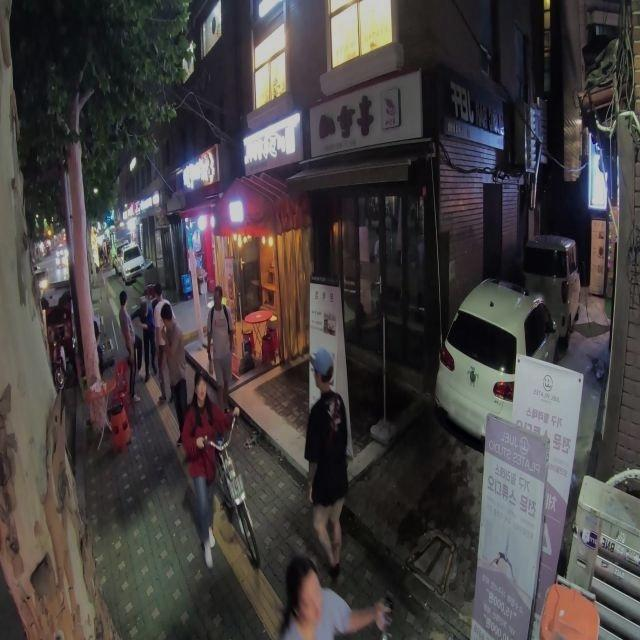non-fight: (176, 368, 253, 567), (303, 351, 353, 568), (274, 548, 388, 640), (160, 300, 190, 446), (204, 283, 236, 413), (116, 290, 142, 404), (151, 284, 176, 402), (130, 284, 157, 382)
